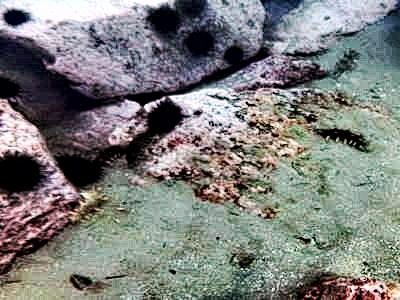urchin: (3, 151, 44, 193), (56, 155, 99, 188), (148, 99, 179, 131), (183, 27, 215, 54), (148, 8, 177, 31), (3, 7, 32, 28), (218, 45, 241, 64), (1, 75, 16, 101), (177, 2, 209, 14)
